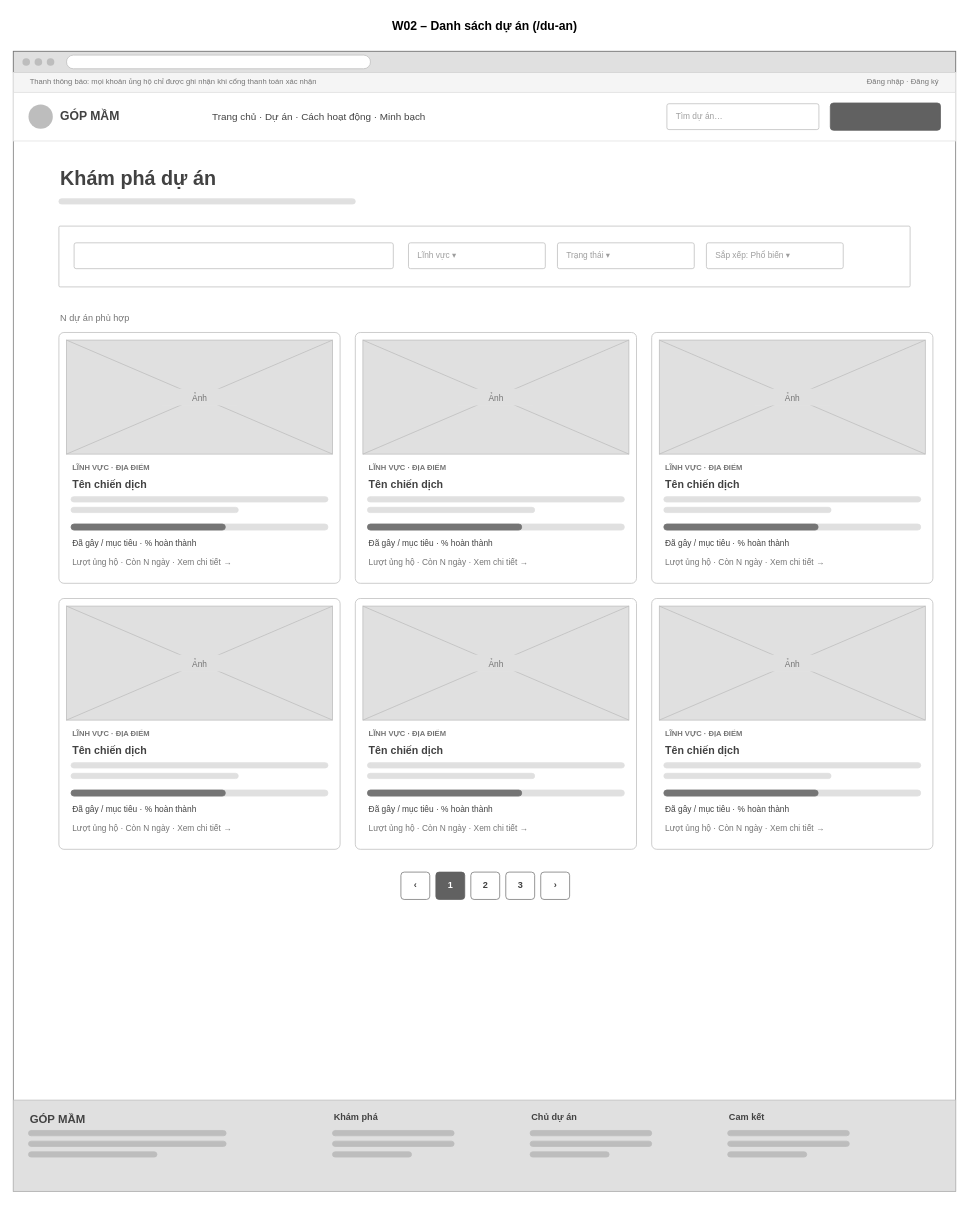
This 969x1205 diagram has some shape labels left out. Each missing label, with the centre of its shape:
https://gopmam.com: (x=218, y=61)
Tạo chiến dịch: (x=885, y=116)
🔍 Tìm theo tên, mô tả…: (x=233, y=255)
